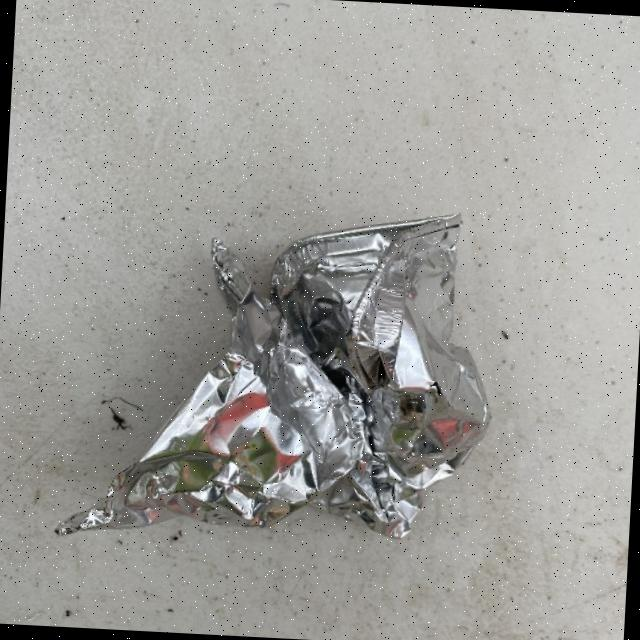metal: (54, 191, 502, 559)
